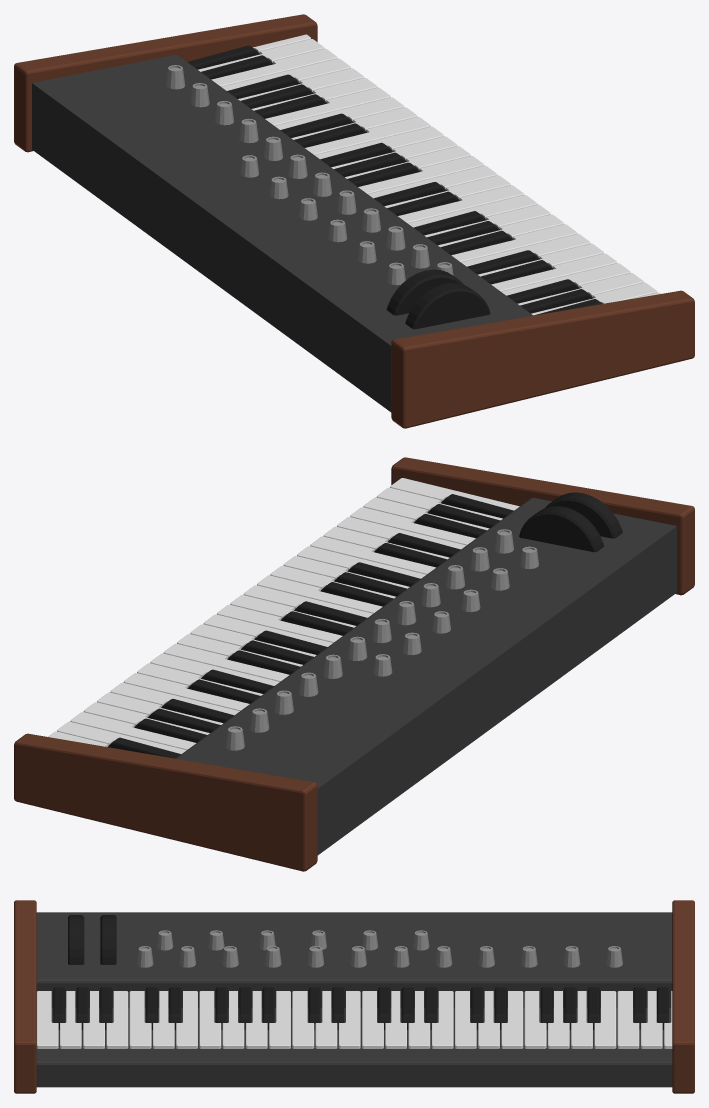
File: synth.glb
3 renders of one model, top to bottom at view 1: azimuth 30°, elevation 25°; view 2: azimuth 150°, elevation 25°; view 3: azimuth 270°, elevation 25°, orthographic. The views are drawn at different scales.
Parts seen in each view (by area): view 1: Cube, Cube.002, Cube.001, Cylinder.002, Cylinder, Cube.006, Cube.005, Cube.004, Cylinder.003, Cube.003, Cube.014, Cube.007 (+3 smaller); view 2: Cube, Cube.002, Cube.001, Cylinder.002, Cylinder.001, Cube.004, Cube.005, Cube.003, Cube.006, Cylinder.003, Cube.012, Cube.007 (+3 smaller); view 3: Cube, Cube.001, Cube.002, Cylinder.002, Cylinder.003, Cube.003, Cube.004, Cube.005, Cube.006, Cube.012, Cube.007, Cube.011 (+3 smaller).
Boxes of the visible parts, x1=… form: Cube: x1=32, y1=54, x2=532, y2=412; Cube.002: x1=14, y1=14, x2=694, y2=428; Cube.001: x1=198, y1=34, x2=660, y2=315; Cylinder.002: x1=166, y1=65, x2=453, y2=275; Cylinder: x1=405, y1=283, x2=490, y2=329; Cube.006: x1=227, y1=74, x2=326, y2=118; Cube.005: x1=320, y1=142, x2=420, y2=186; Cube.004: x1=413, y1=211, x2=513, y2=255; Cylinder.003: x1=240, y1=155, x2=405, y2=285; Cube.003: x1=506, y1=279, x2=602, y2=315; Cube.014: x1=280, y1=113, x2=366, y2=147; Cube.007: x1=467, y1=250, x2=553, y2=284; Cube: x1=176, y1=497, x2=676, y2=855; Cube.002: x1=14, y1=457, x2=694, y2=871; Cube.001: x1=48, y1=478, x2=519, y2=753; Cylinder.002: x1=225, y1=529, x2=513, y2=750; Cylinder.001: x1=519, y1=506, x2=604, y2=552; Cube.004: x1=320, y1=562, x2=420, y2=606; Cube.005: x1=227, y1=630, x2=327, y2=674; Cube.003: x1=414, y1=494, x2=513, y2=538; Cube.006: x1=134, y1=698, x2=233, y2=742; Cylinder.003: x1=373, y1=546, x2=538, y2=676; Cube.012: x1=280, y1=601, x2=366, y2=635; Cube.007: x1=374, y1=533, x2=460, y2=567; Cube: x1=36, y1=912, x2=672, y2=1087; Cube.001: x1=36, y1=991, x2=672, y2=1048; Cube.002: x1=14, y1=900, x2=694, y2=1093; Cylinder.002: x1=136, y1=946, x2=622, y2=967; Cylinder.003: x1=157, y1=930, x2=429, y2=950; Cube.003: x1=53, y1=987, x2=112, y2=1029; Cube.004: x1=215, y1=987, x2=274, y2=1029; Cube.005: x1=378, y1=987, x2=437, y2=1029; Cube.006: x1=541, y1=987, x2=599, y2=1029; Cube.012: x1=308, y1=987, x2=344, y2=1029; Cube.007: x1=146, y1=987, x2=181, y2=1029; Cube.011: x1=633, y1=987, x2=668, y2=1029.
Bounding box in the file's own units: 0.999 × 0.3194 × 2.31.
